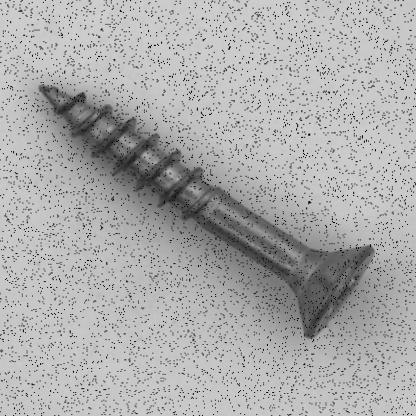metal: (38, 83, 374, 339)
